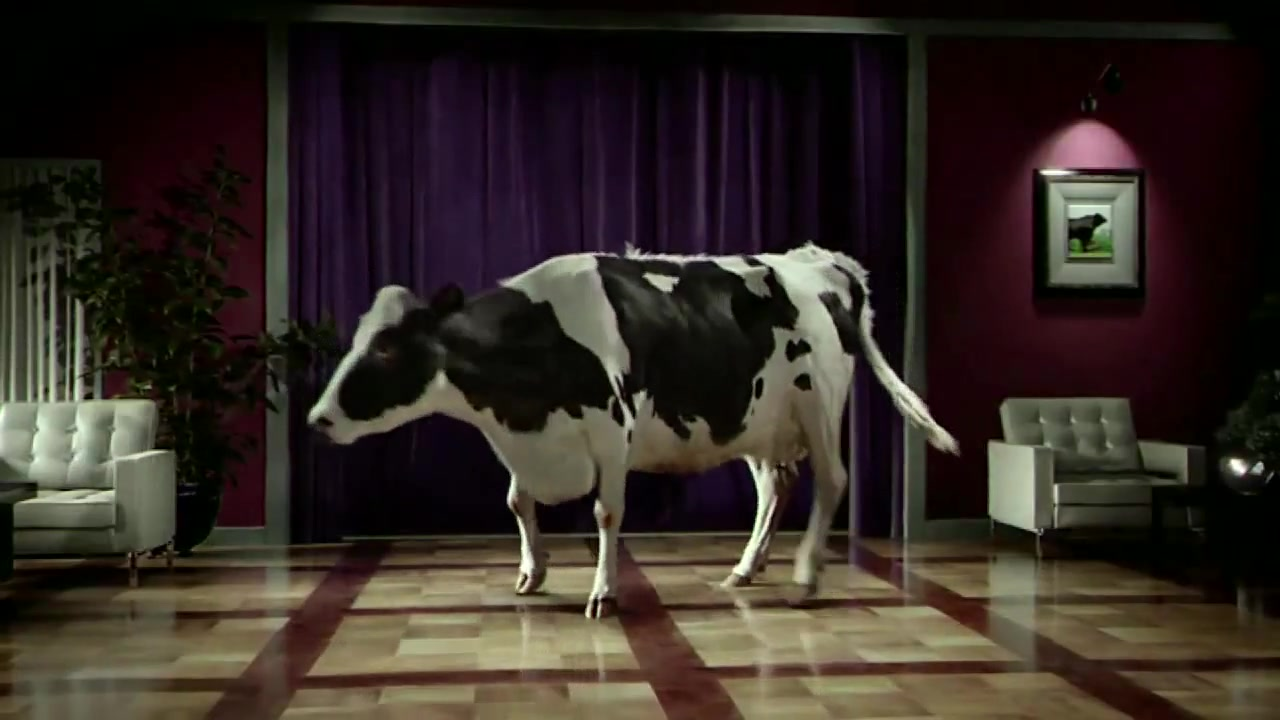cow: (304, 243, 966, 619)
